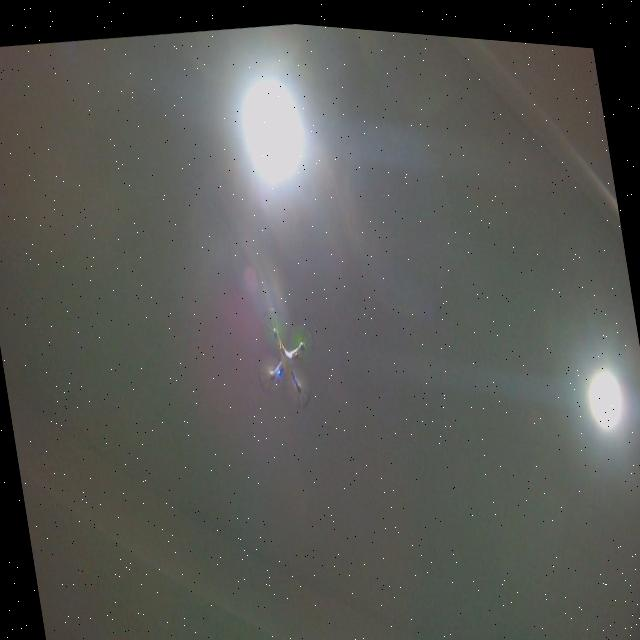drone: (245, 292, 329, 416)
